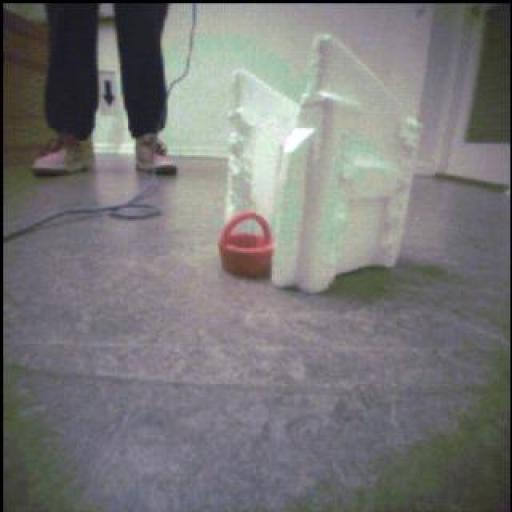Arrow: (105, 81, 116, 107)
Bucket: (219, 215, 279, 279)
